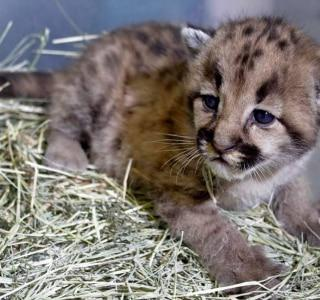OncaParda: (6, 13, 317, 291)
